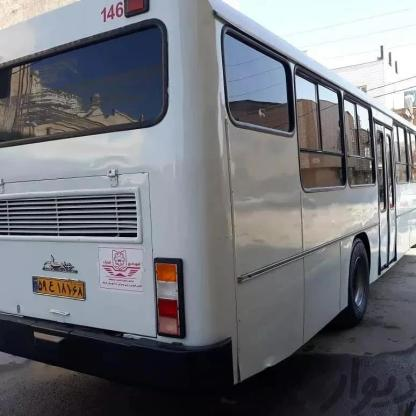Bus: (0, 0, 416, 392)
